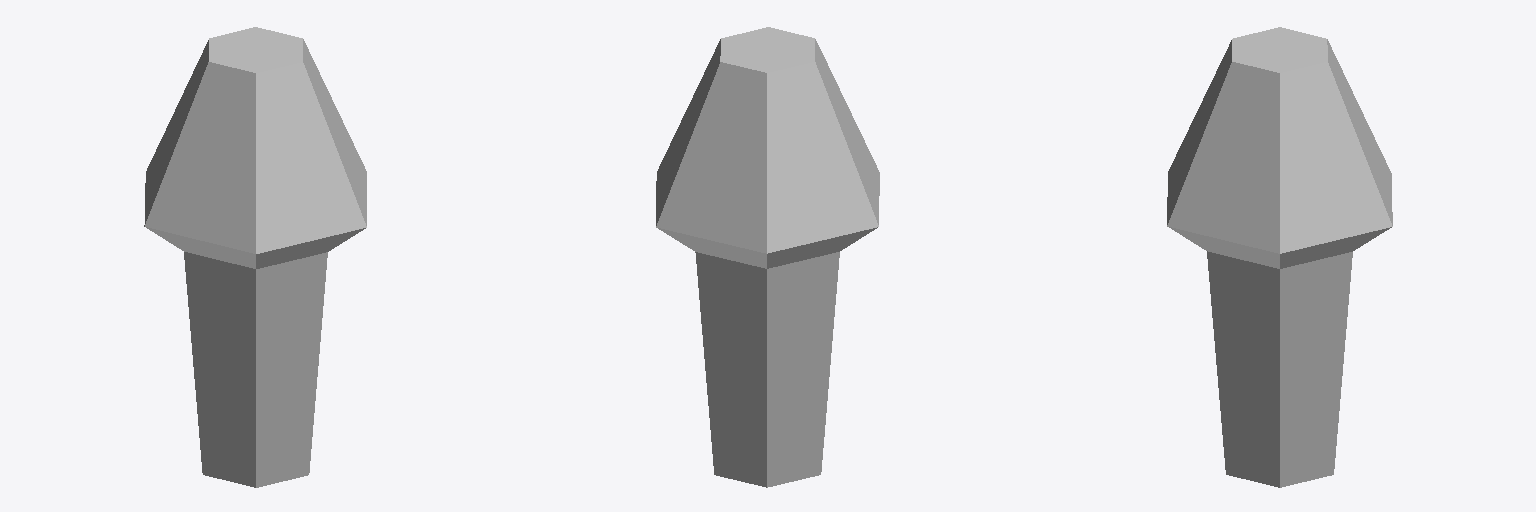
File: LampConvexHull.obj
3 views of the same model, side by side, from view 1: azimuth 30°, elevation 25°; view 2: azimuth 150°, elevation 25°; view 3: azimuth 270°, elevation 25° (orthographic).
Visible parts, largest first — view 1: LampConvexHull; view 2: LampConvexHull; view 3: LampConvexHull.
Part boxes in pixels (left/top/right/bottom): LampConvexHull: left=144, top=27, right=366, bottom=487; LampConvexHull: left=656, top=27, right=879, bottom=487; LampConvexHull: left=1167, top=27, right=1392, bottom=487.
Size of the model in its own units: 0.3511 by 0.6201 by 0.3081.